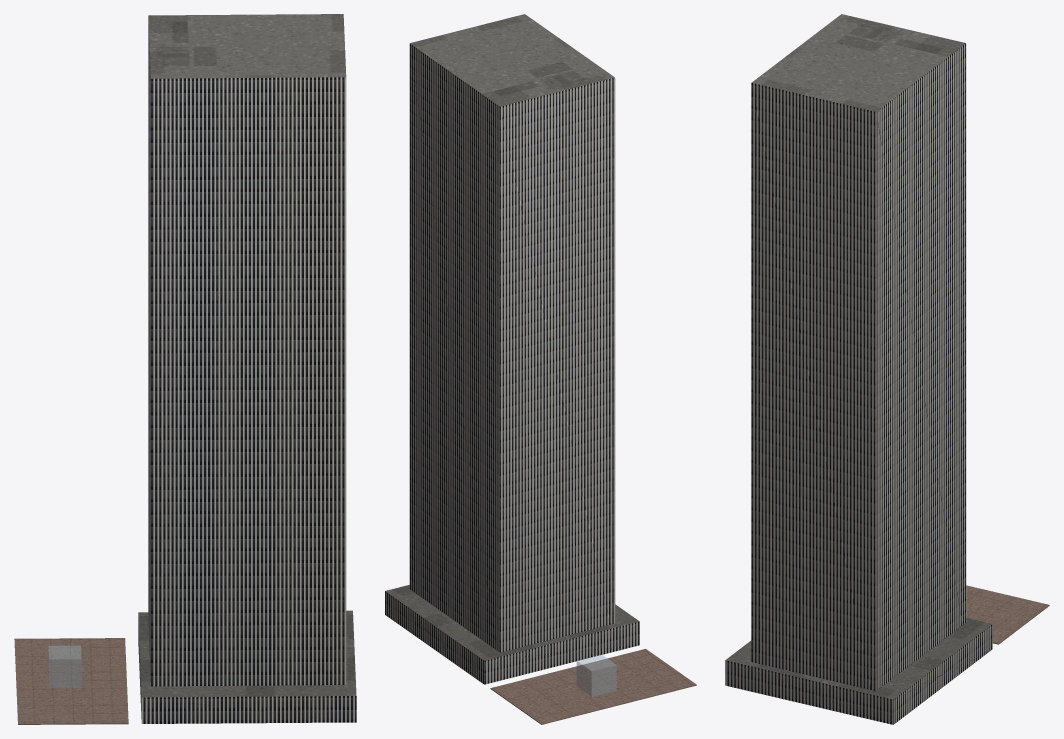
The picture shows the model from 3 angles, left to right: view 1: azimuth 30°, elevation 25°; view 2: azimuth 150°, elevation 25°; view 3: azimuth 270°, elevation 25°; orthographic projection. The views are drawn at different scales.
Visible parts, largest first — view 1: gm; view 2: gm; view 3: gm.
Part boxes in pixels (x1,y1,x2,y2): gm: (14, 14, 356, 724); gm: (385, 14, 696, 724); gm: (725, 14, 1049, 724).
Bounding box in the file's own units: 121 × 215 × 105.
Materials: 6 (5 with a texture image).
